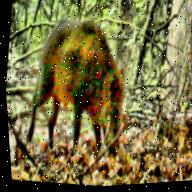boar: (12, 9, 140, 166)
